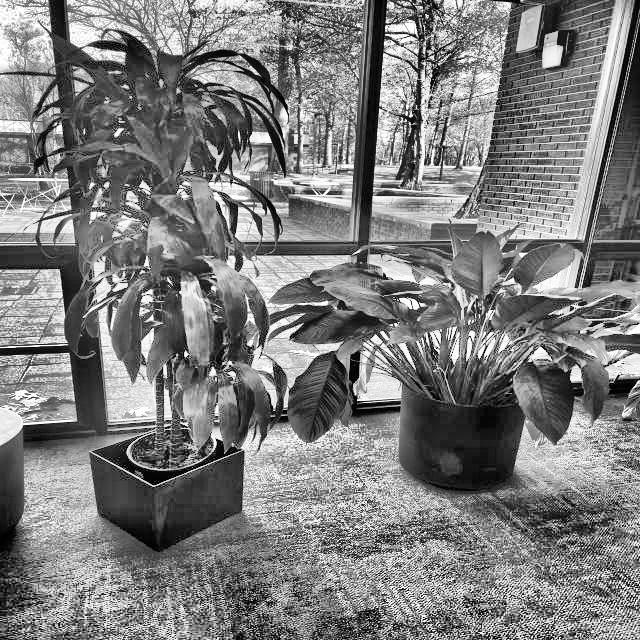plants: (56, 18, 282, 454), (330, 222, 630, 419)
